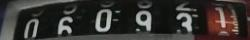digits: (133, 11, 152, 36), (174, 13, 193, 36), (94, 8, 112, 32), (212, 6, 229, 30), (57, 16, 74, 39), (23, 17, 39, 37)
